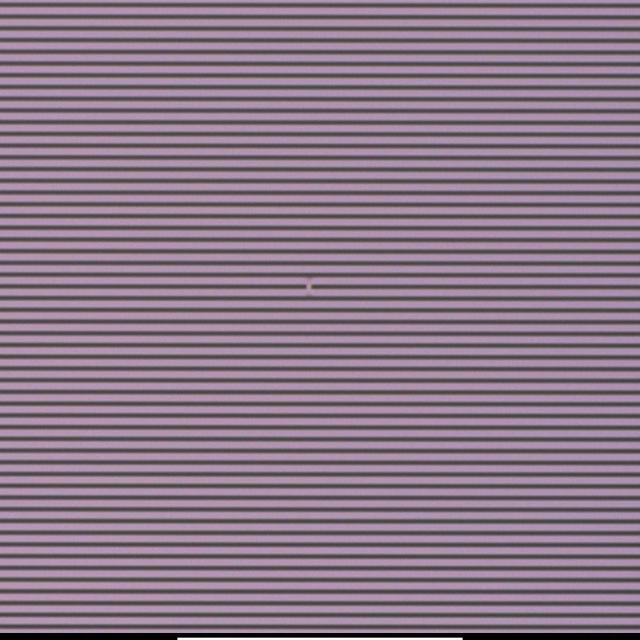03_intrusion: (304, 278, 319, 300)
